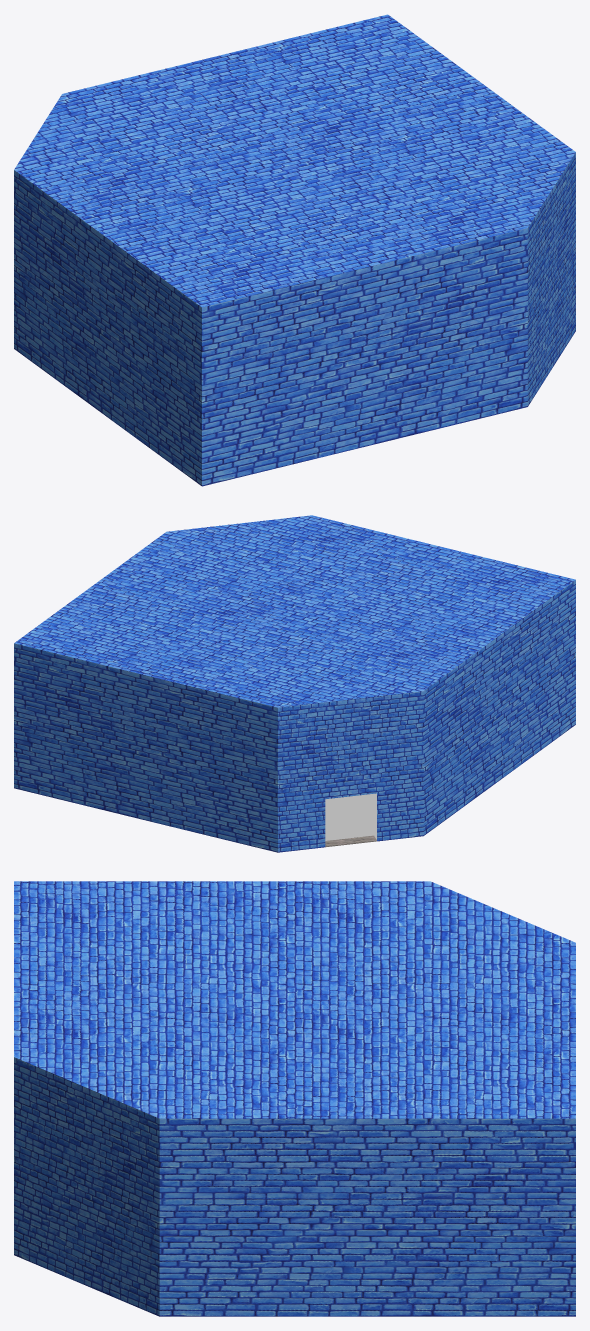
The model's file is PenguinRoomInverted.fbx.
The picture shows the model from 3 angles, top to bottom: view 1: azimuth 30°, elevation 25°; view 2: azimuth 150°, elevation 25°; view 3: azimuth 270°, elevation 25°; orthographic projection. The views are drawn at different scales.
Visible parts, largest first — view 1: Cube; view 2: Cube, Circle; view 3: Cube.
Part boxes in pixels (x1,y1,x2,y2): Cube: (14,14,575,486); Cube: (14,515,575,852); Circle: (325,793,376,817); Cube: (14,881,575,1316).
Size of the model in its own units: 38.57 by 15 by 38.57.
